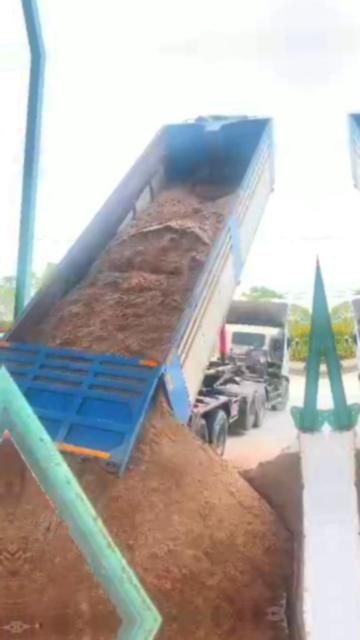sand: (71, 397, 290, 619), (28, 186, 233, 359), (11, 472, 116, 625), (243, 449, 300, 533), (7, 440, 25, 507)
